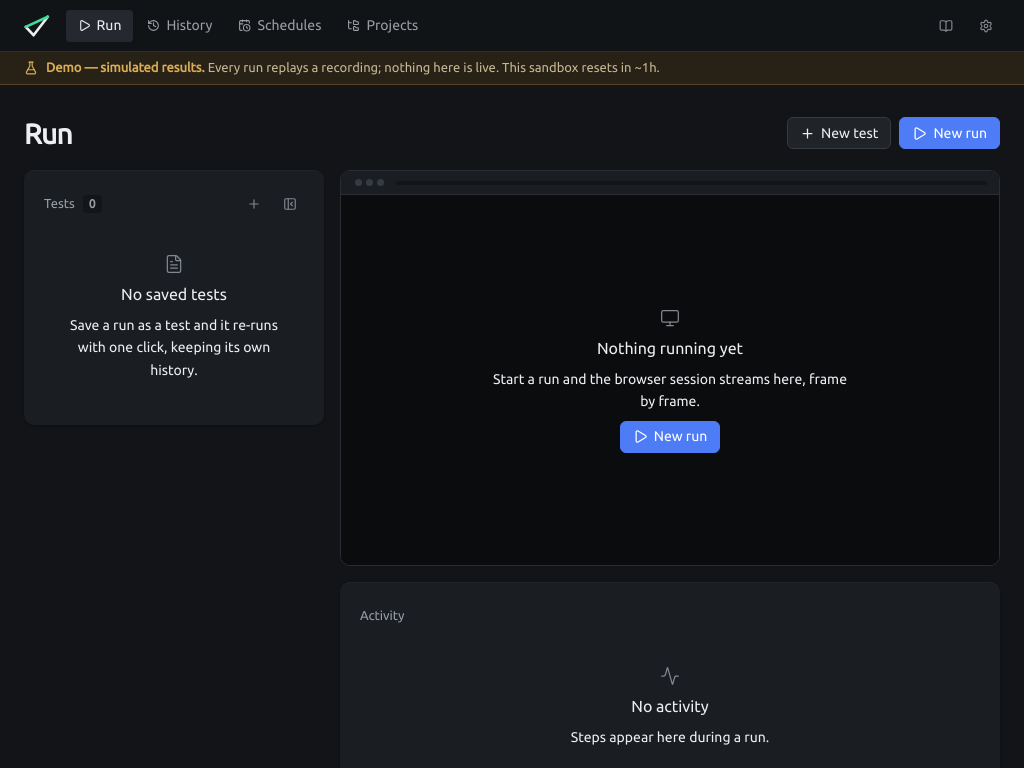
Test: App shell › never asks a demo visitor for a token, even with one configured
This screenshot has width=1024, height=768.
Expected: the text "Demo — simulated results." is shown, [46,60,205,74]
Expected: the 1st button "New run" is shown, [899,117,1000,149]
Click the button named "Settings".
click(986, 26)  # box [972,12,1000,40]
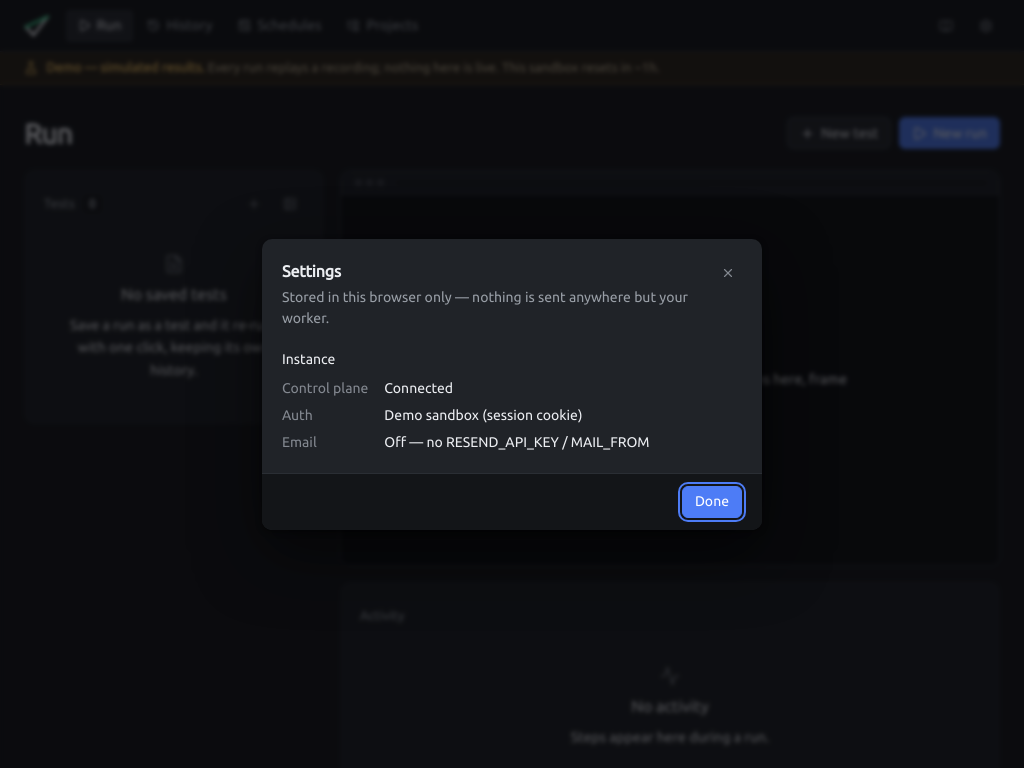
Result: the dialog "Settings" is shown at [262,238,762,530]
